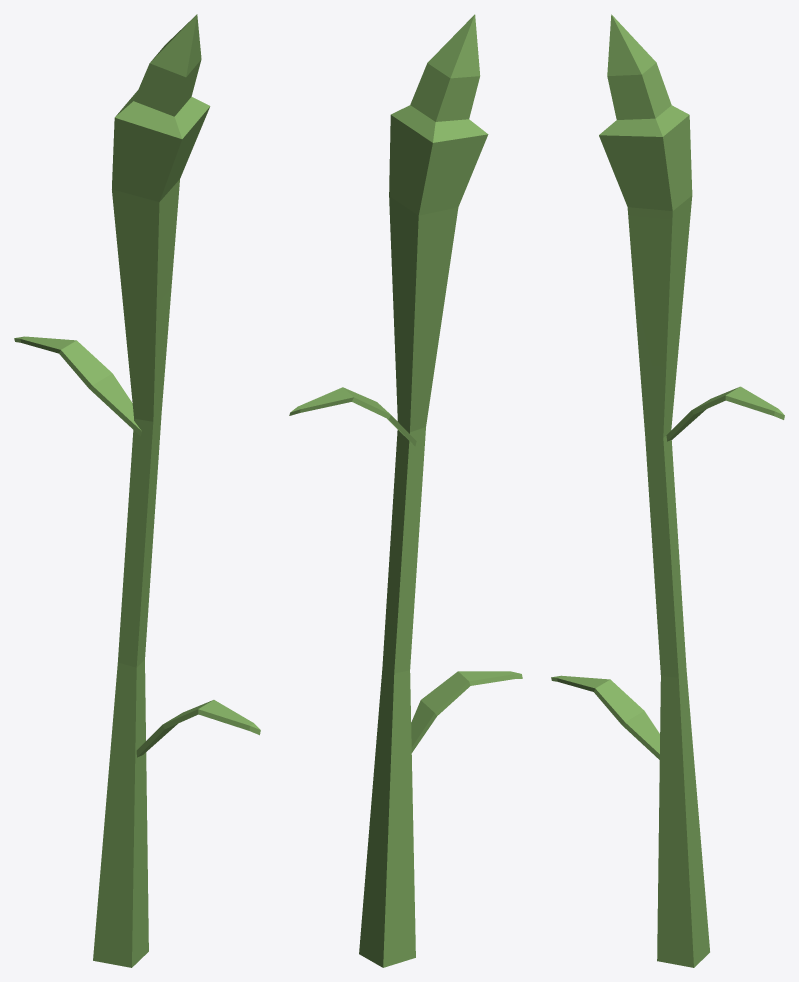
The model's file is Wheat_2.glb.
The picture shows the model from 3 angles, left to right: view 1: azimuth 90°, elevation 25°; view 2: azimuth 150°, elevation 25°; view 3: azimuth 270°, elevation 25°; orthographic projection. The views are drawn at different scales.
Visible parts, largest first — view 1: Wheat_2; view 2: Wheat_2; view 3: Wheat_2.
Part boxes in pixels (x1,y1,x2,y2): Wheat_2: (14, 14, 260, 967); Wheat_2: (289, 14, 522, 967); Wheat_2: (551, 14, 784, 967).
Bounding box in the file's own units: 0.0724 × 0.5389 × 0.1245.
